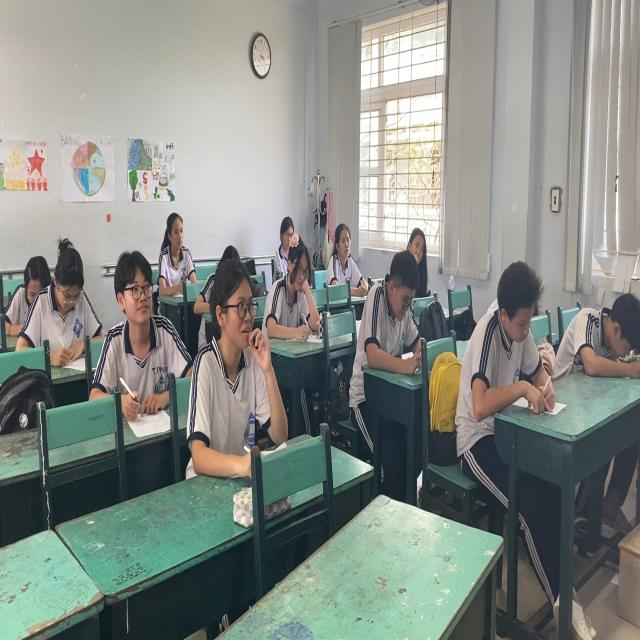not_cheating: (192, 250, 276, 446), (464, 264, 549, 416), (99, 250, 180, 388), (26, 229, 100, 364), (367, 253, 423, 371), (274, 212, 318, 354), (157, 205, 194, 292), (326, 220, 367, 284), (404, 226, 429, 294)
